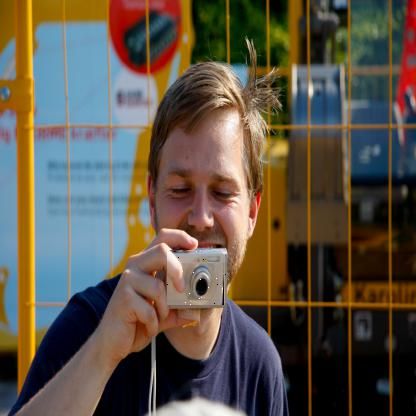Camera: (169, 251, 229, 307)
